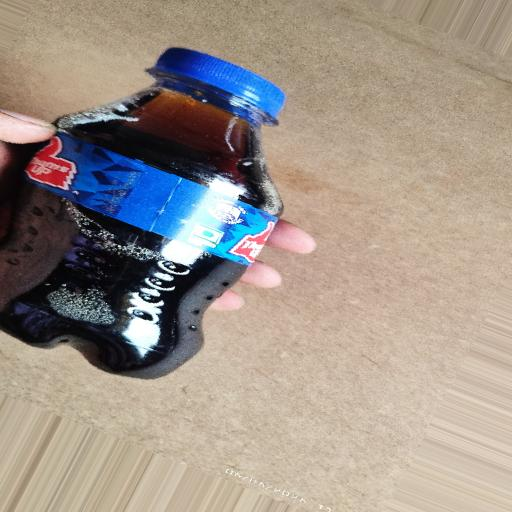Thumps Up: (0, 37, 341, 424)
